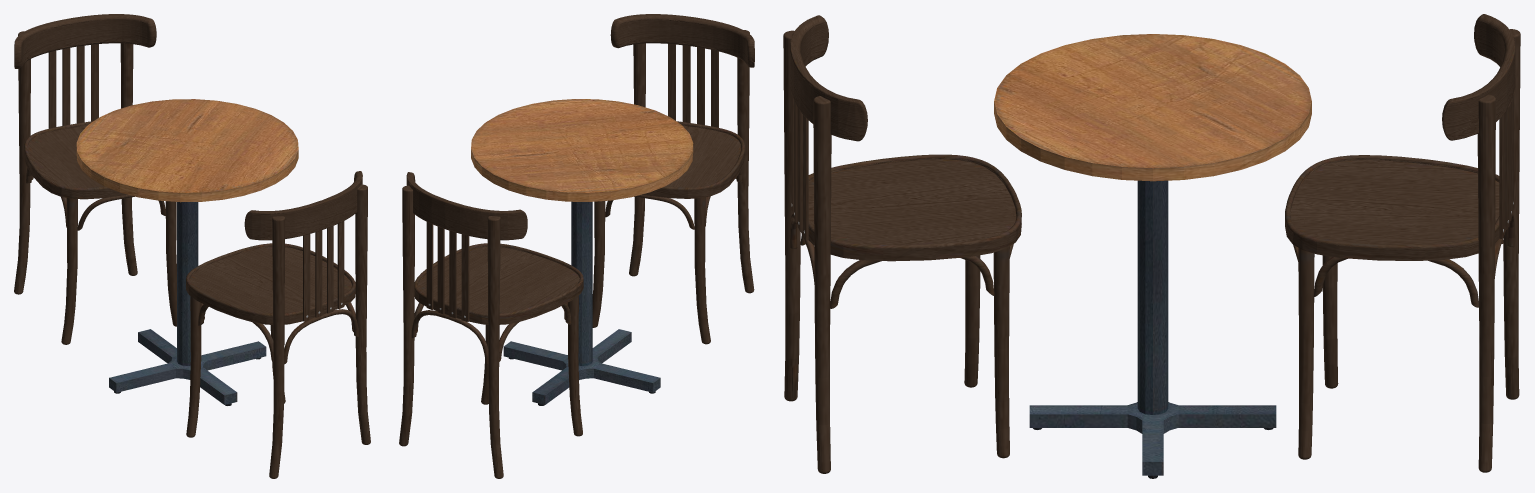
The model's file is table_2.glb.
The picture shows the model from 3 angles, left to right: view 1: azimuth 30°, elevation 25°; view 2: azimuth 150°, elevation 25°; view 3: azimuth 270°, elevation 25°; orthographic projection. The views are drawn at different scales.
Visible parts, largest first — view 1: cafe_table_0_n0, bistro_chair_1_n2, bistro_chair_1_n1; view 2: cafe_table_0_n0, bistro_chair_1_n1, bistro_chair_1_n2; view 3: cafe_table_0_n0, bistro_chair_1_n2, bistro_chair_1_n1.
Part boxes in pixels (box(x1,y1,x2,y2)): cafe_table_0_n0: box(76, 99, 298, 405); bistro_chair_1_n2: box(186, 171, 370, 478); bistro_chair_1_n1: box(14, 14, 176, 344); cafe_table_0_n0: box(471, 99, 693, 405); bistro_chair_1_n1: box(399, 172, 583, 478); bistro_chair_1_n2: box(592, 14, 754, 344); cafe_table_0_n0: box(994, 34, 1311, 478); bistro_chair_1_n2: box(783, 15, 1021, 473); bistro_chair_1_n1: box(1285, 14, 1520, 472).
Size of the model in its own units: 0.6607 by 0.86 by 1.53.
Materials: 3 (2 with a texture image).
